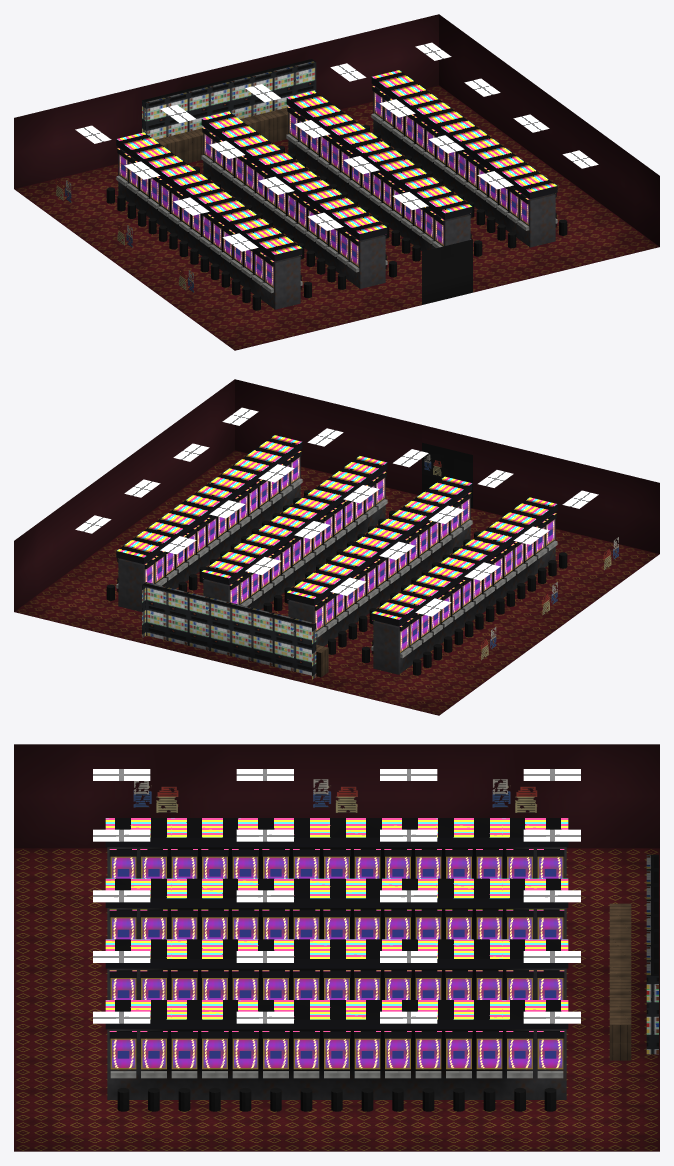
File: pachinko.glb
The picture shows the model from 3 angles, top to bottom: view 1: azimuth 30°, elevation 25°; view 2: azimuth 150°, elevation 25°; view 3: azimuth 270°, elevation 25°; orthographic projection. The views are drawn at different scales.
Visible parts, largest first — view 1: pachinko; view 2: pachinko; view 3: pachinko.
Boxes of the visible parts, x1=… form: pachinko: x1=14, y1=14, x2=659, y2=350; pachinko: x1=14, y1=379, x2=659, y2=715; pachinko: x1=14, y1=744, x2=659, y2=1151.
Bounding box in the file's own units: 20 × 3.2 × 18.
13 materials, 13 textured.
